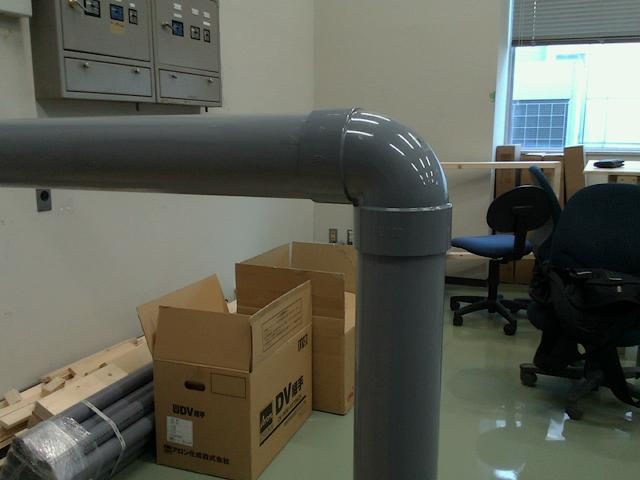bent: (295, 106, 452, 258)
